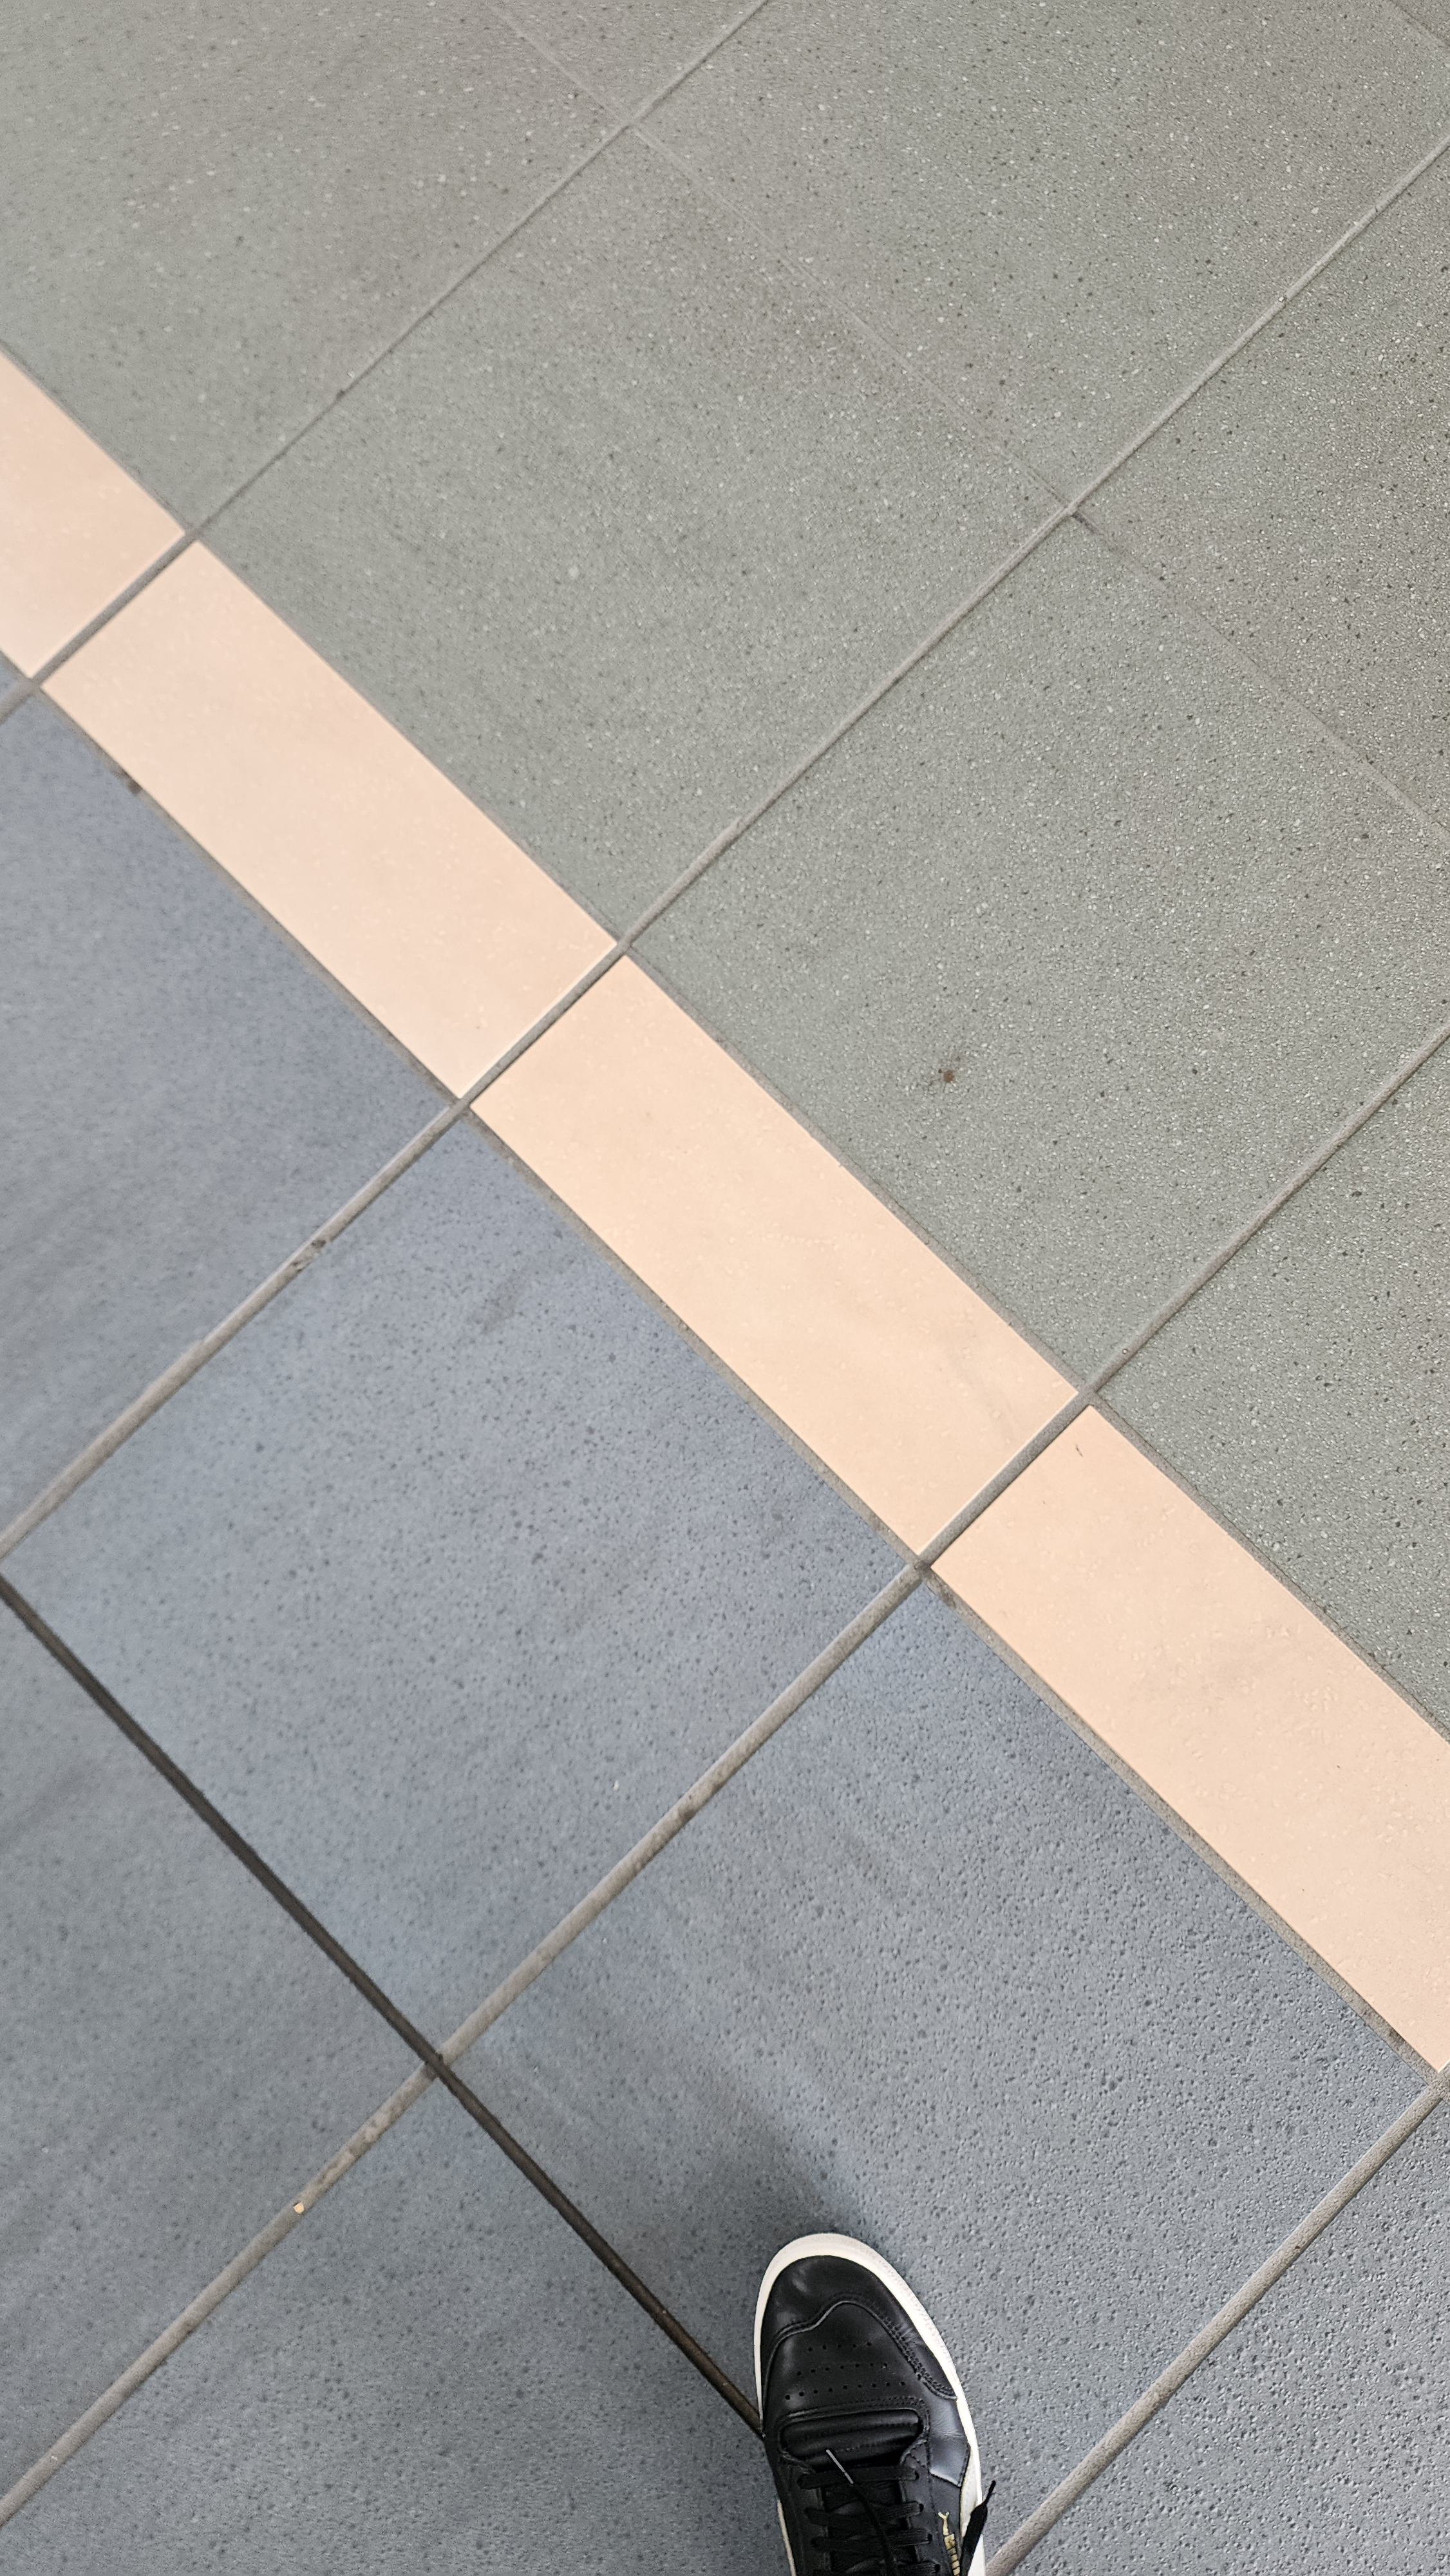Stain: (918, 1024, 996, 1115)
